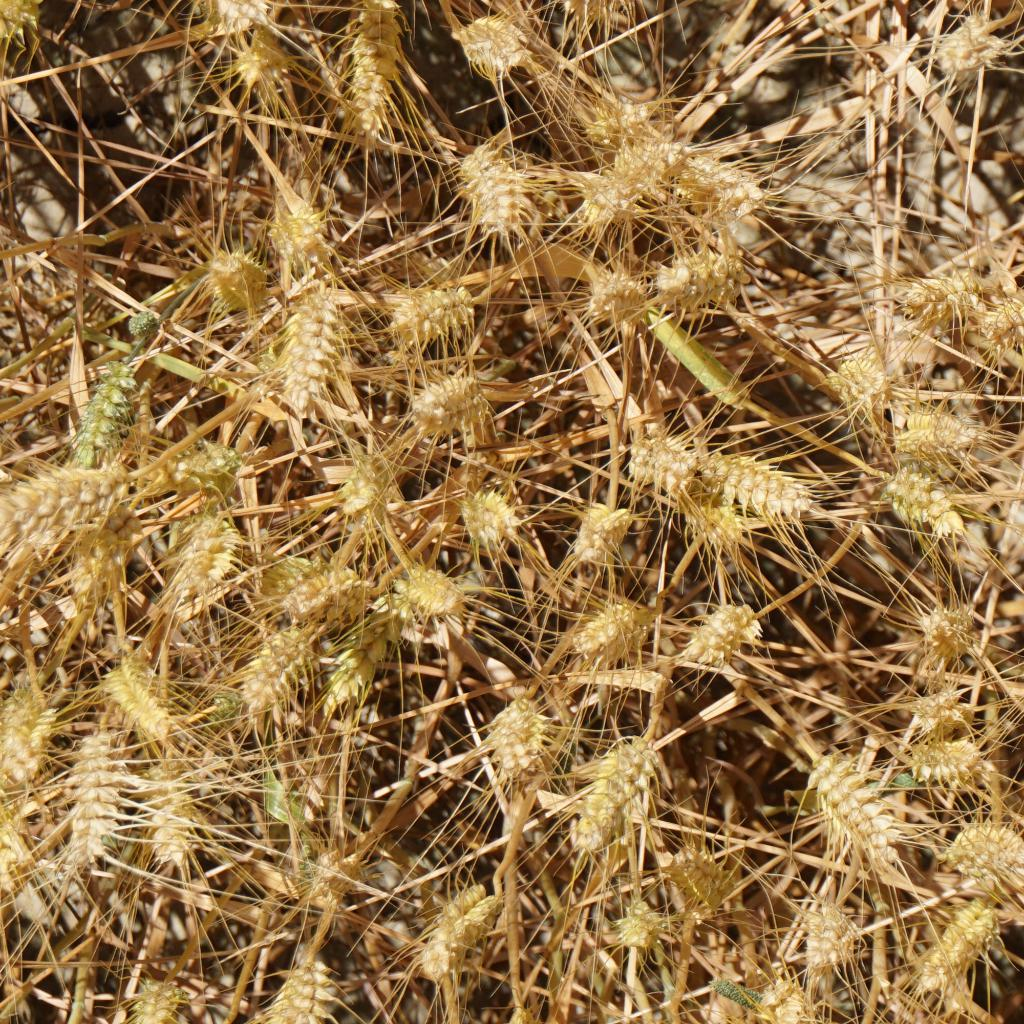0-0: (800, 744, 896, 859), (340, 0, 404, 154), (274, 279, 345, 414), (61, 727, 130, 861), (573, 731, 651, 841), (0, 474, 112, 546), (912, 906, 1000, 991), (698, 449, 801, 518), (230, 623, 302, 720), (935, 813, 1024, 891), (664, 839, 740, 929), (678, 156, 778, 224), (458, 138, 530, 230), (104, 658, 180, 745), (412, 885, 489, 970), (73, 364, 140, 458), (389, 281, 472, 351), (795, 889, 856, 982), (894, 402, 983, 465), (887, 458, 956, 539), (0, 677, 54, 779), (906, 735, 992, 798), (143, 764, 196, 864), (571, 590, 643, 662), (0, 742, 37, 882), (692, 591, 758, 669), (657, 248, 739, 309), (936, 15, 1016, 77), (413, 373, 488, 439), (450, 14, 526, 79), (174, 504, 232, 588), (489, 697, 543, 780), (572, 499, 636, 566), (903, 257, 974, 317), (916, 594, 983, 654), (458, 479, 517, 545), (621, 433, 693, 487), (266, 202, 330, 261), (401, 562, 466, 620), (163, 437, 242, 483), (683, 495, 754, 546), (622, 137, 680, 197), (217, 247, 266, 317), (272, 963, 328, 1024), (581, 269, 642, 324), (294, 565, 354, 620), (826, 345, 891, 395), (230, 36, 288, 92), (69, 535, 122, 592), (577, 96, 648, 138), (130, 971, 182, 1024), (978, 294, 1024, 353), (311, 846, 363, 898), (578, 173, 630, 223), (336, 463, 387, 512), (759, 973, 808, 1024), (913, 689, 969, 733), (0, 0, 45, 54), (705, 979, 765, 1019), (196, 671, 244, 720), (271, 552, 324, 596), (615, 898, 653, 953), (199, 0, 266, 29), (543, 0, 635, 19), (122, 303, 148, 334)
